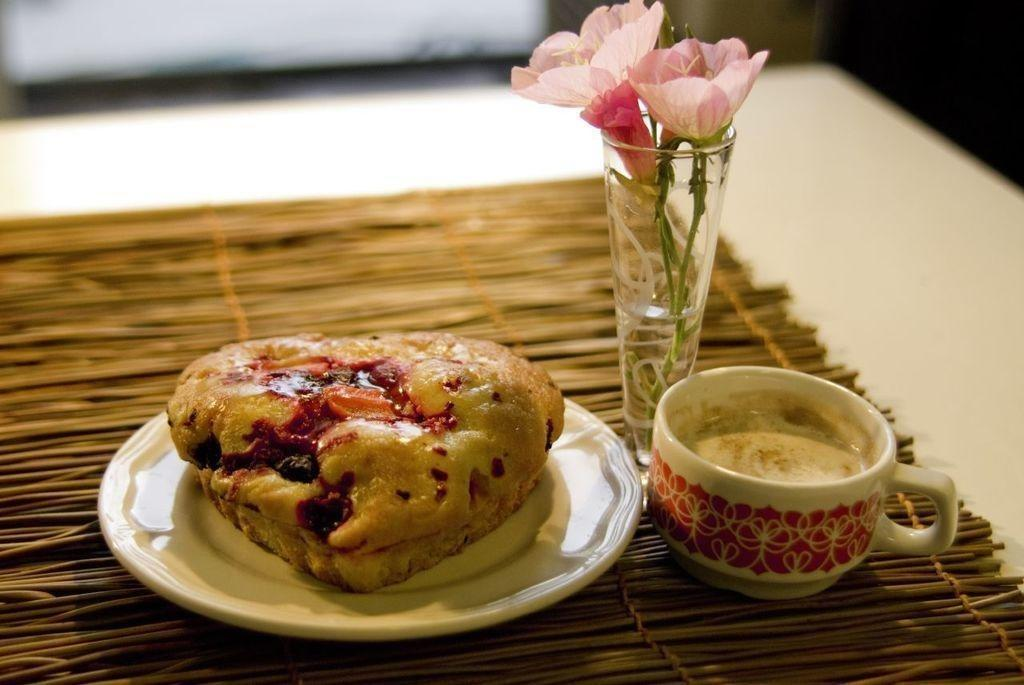cup-handle: (649, 365, 956, 603)
glass-normal: (599, 125, 739, 472)
